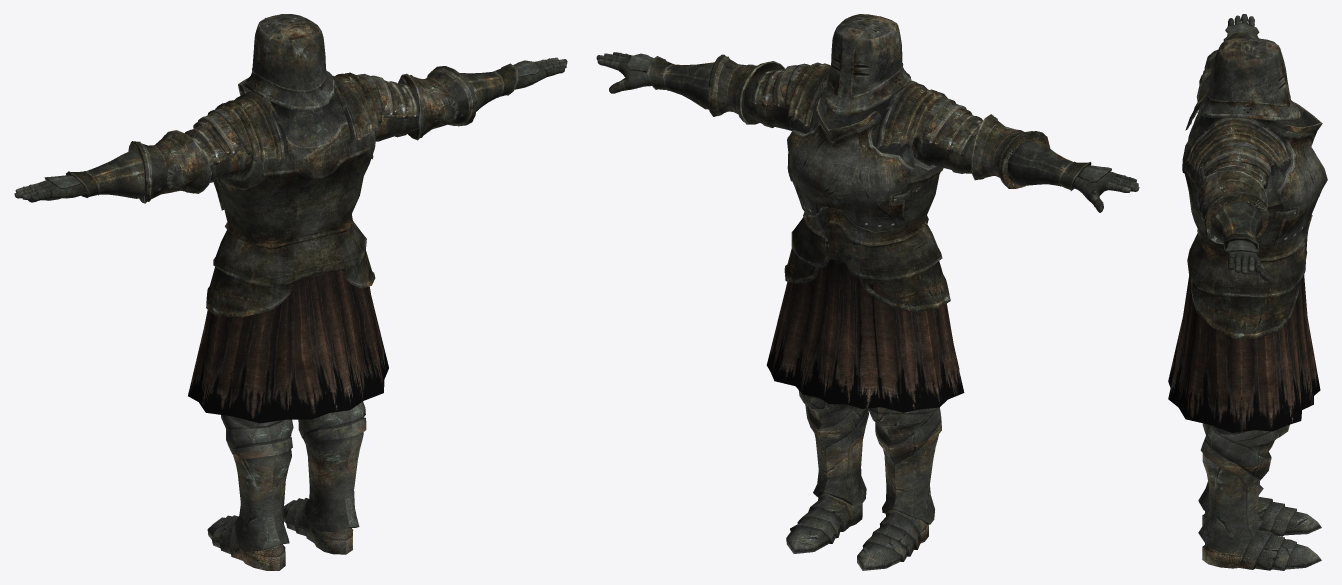
Rendered from orc_fullplate.fbx.
The picture shows the model from 3 angles, left to right: view 1: azimuth 30°, elevation 25°; view 2: azimuth 150°, elevation 25°; view 3: azimuth 270°, elevation 25°; orthographic projection. The views are drawn at different scales.
Visible parts, largest first — view 1: polySurface10, polySurface12, mesh06, polySurface11, mesh01, mesh05; view 2: polySurface10, polySurface12, mesh06, polySurface11, mesh05, mesh01; view 3: polySurface10, polySurface12, mesh06, polySurface11, mesh01, mesh05.
Part boxes in pixels (x1=…): polySurface10: x1=206, y1=79, x2=375, y2=316; polySurface12: x1=188, y1=87, x2=418, y2=423; mesh06: x1=207, y1=401, x2=366, y2=570; polySurface11: x1=128, y1=66, x2=476, y2=203; mesh01: x1=243, y1=14, x2=335, y2=111; mesh05: x1=14, y1=57, x2=567, y2=202; polySurface10: x1=784, y1=97, x2=950, y2=312; polySurface12: x1=743, y1=74, x2=975, y2=412; mesh06: x1=786, y1=390, x2=941, y2=570; polySurface11: x1=696, y1=54, x2=1050, y2=202; mesh05: x1=596, y1=52, x2=1139, y2=212; mesh01: x1=821, y1=14, x2=911, y2=115; polySurface10: x1=1182, y1=102, x2=1327, y2=339; polySurface12: x1=1168, y1=175, x2=1320, y2=432; mesh06: x1=1198, y1=423, x2=1321, y2=570; polySurface11: x1=1185, y1=49, x2=1296, y2=244; mesh01: x1=1198, y1=38, x2=1300, y2=121; mesh05: x1=1210, y1=14, x2=1270, y2=281.
Bounding box in the file's own units: 7 × 6.36 × 1.83.
